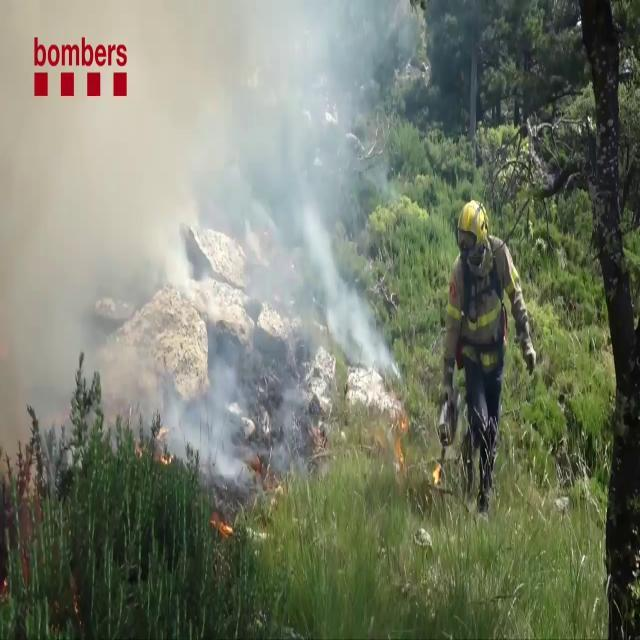Smoke: (0, 0, 398, 474)
